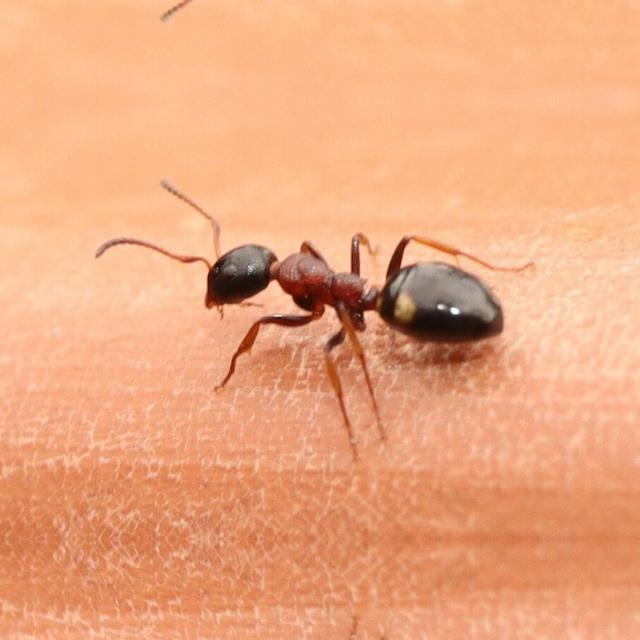Dolichoderus: (137, 196, 543, 380)
